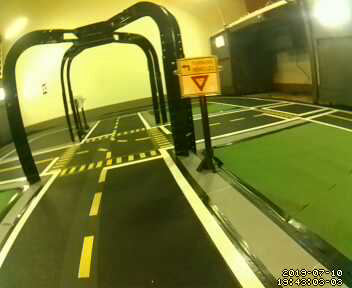Turn Yield: (174, 56, 221, 100)
